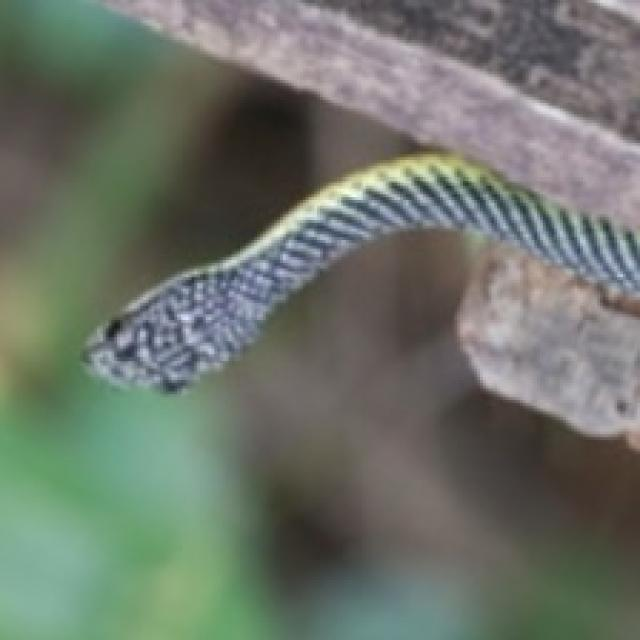paradise tree snake: (86, 154, 637, 389)
